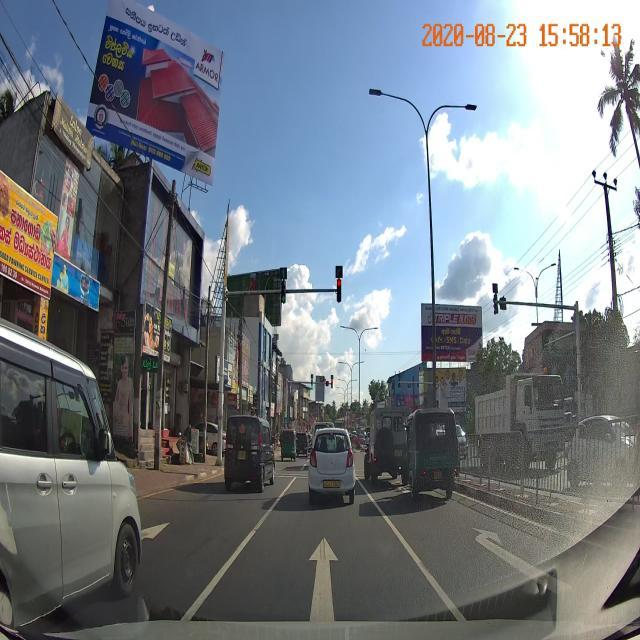forward: (170, 530, 475, 620)
